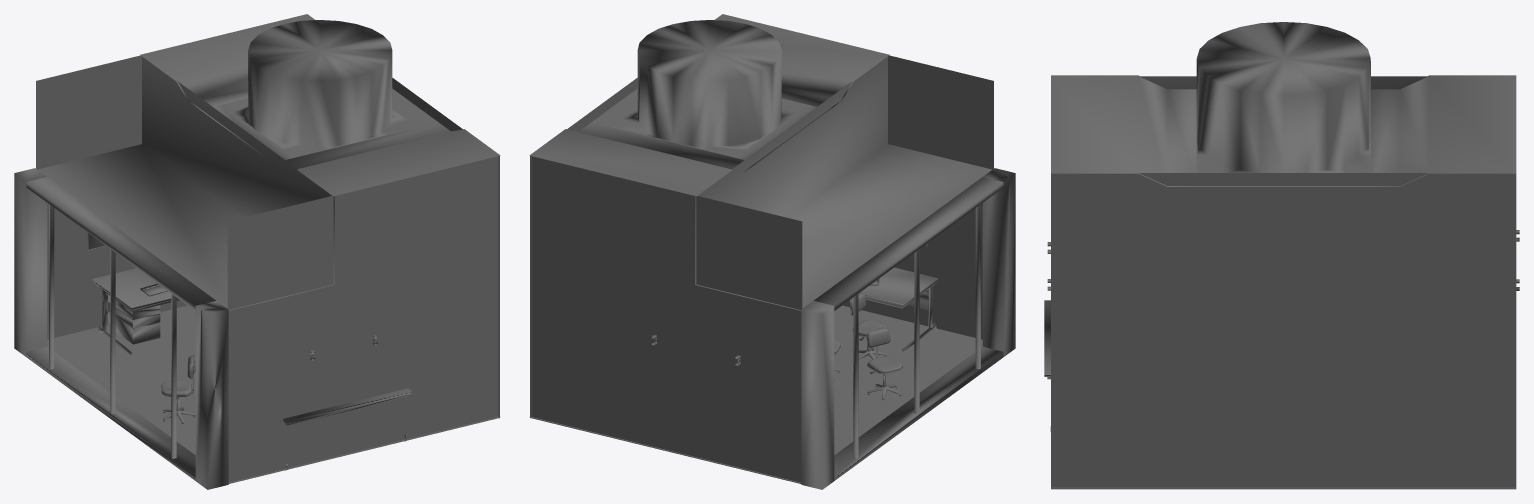
The model's file is obroom_256.obj.
3 renders of one model, left to right at view 1: azimuth 30°, elevation 25°; view 2: azimuth 150°, elevation 25°; view 3: azimuth 270°, elevation 25°, orthographic. The views are drawn at different scales.
Visible parts, largest first — view 1: dropper; view 2: dropper; view 3: dropper.
Part boxes in pixels (box(x1,y1,x2,y2)): dropper: box(14, 14, 500, 489); dropper: box(529, 14, 1015, 489); dropper: box(1044, 22, 1519, 489).
Size of the model in its own units: 3.5 by 3.62 by 4.09.
